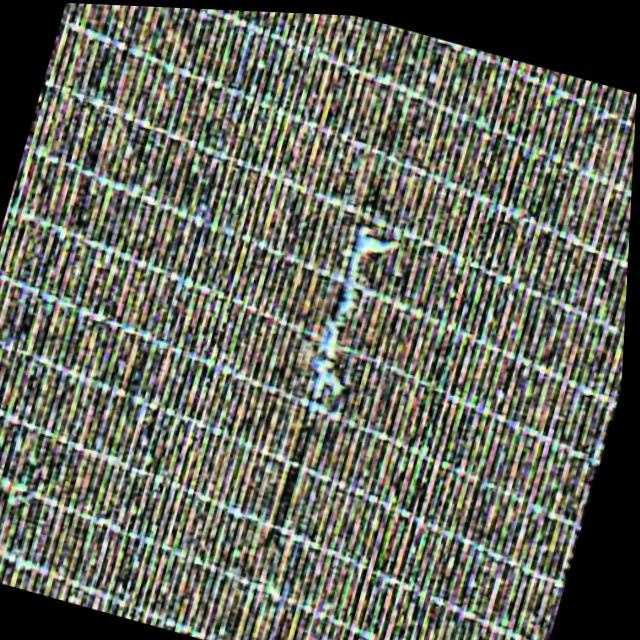Stitch: (245, 181, 431, 430)
